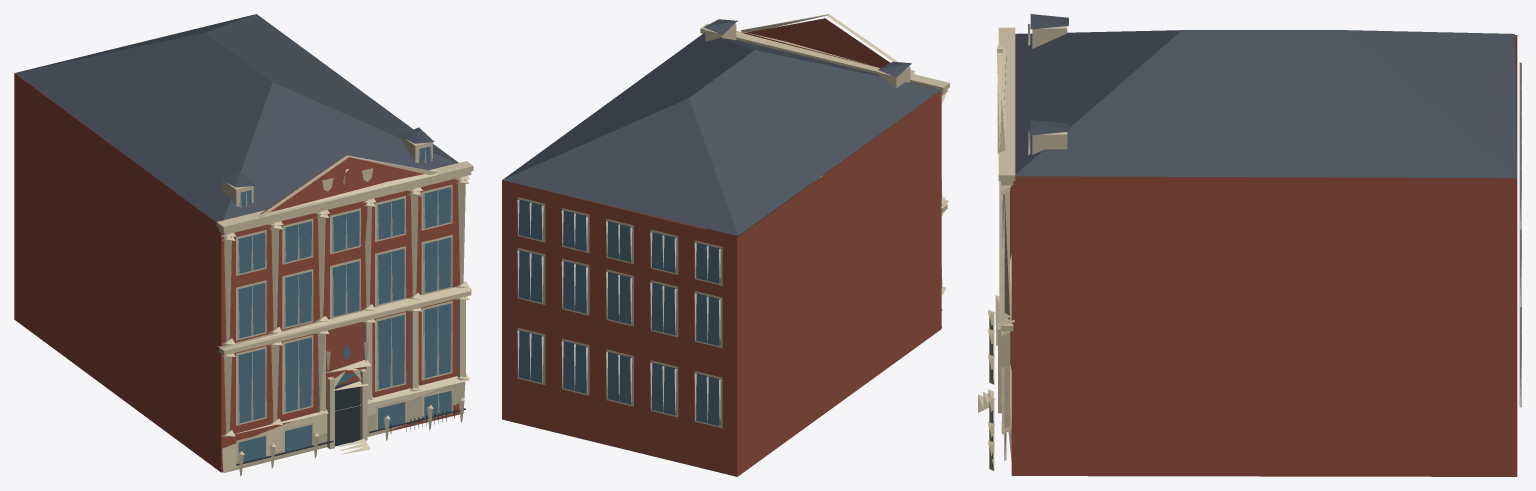
File: canals-museum.lod1.glb
3 views of the same model, side by side, from view 1: azimuth 30°, elevation 25°; view 2: azimuth 150°, elevation 25°; view 3: azimuth 270°, elevation 25° (orthographic). The views are drawn at different scales.
Parts seen in each view (by area): view 1: canals-museum; view 2: canals-museum; view 3: canals-museum.
Boxes of the visible parts, x1,y1,x2,y2 form: canals-museum: (14,14,473,476); canals-museum: (502,14,949,476); canals-museum: (978,14,1521,476).
Bounding box in the file's own units: 15.08 × 17.81 × 23.42.
